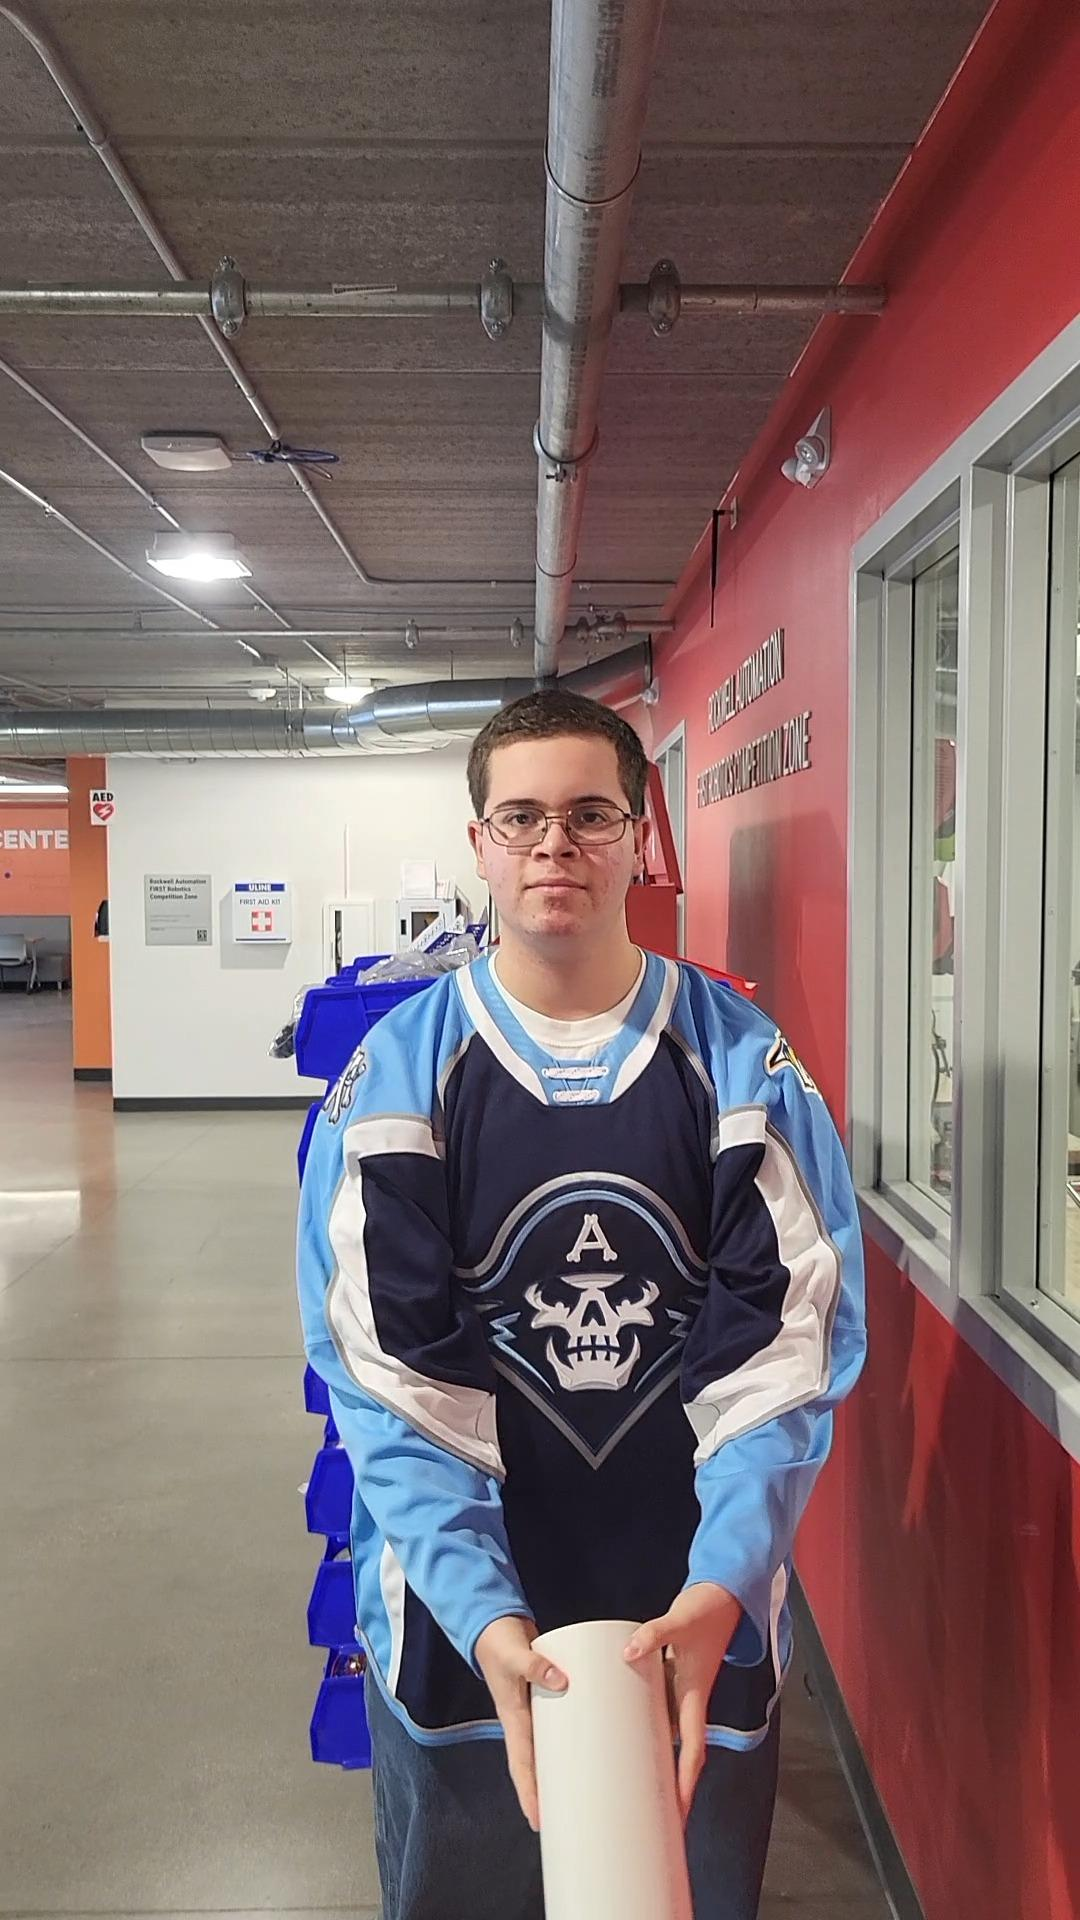coral: (526, 1619, 703, 1920)
